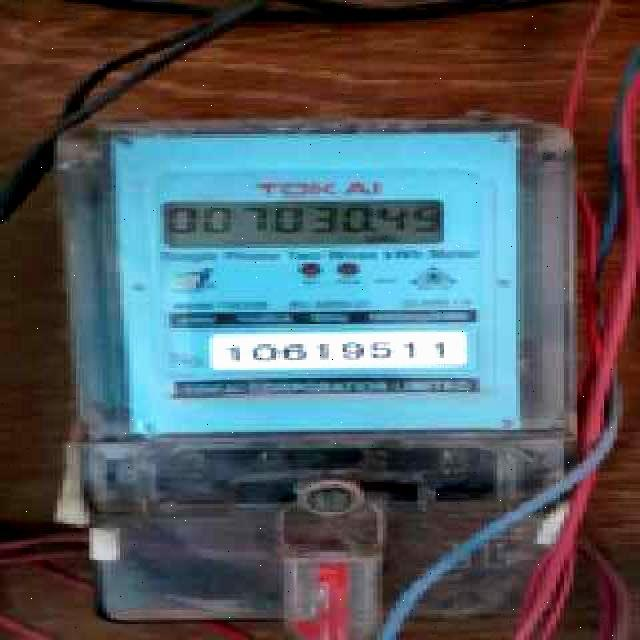LCD: (151, 191, 465, 256)
